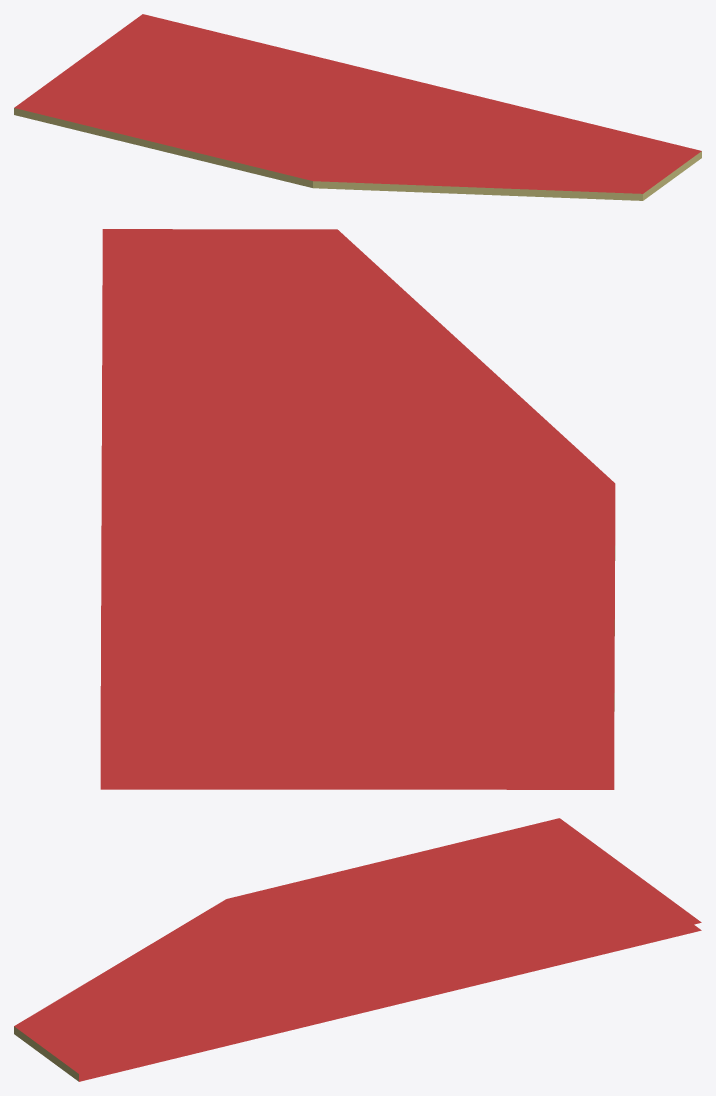
3 views of the same model, one above another, from view 1: azimuth 30°, elevation 25°; view 2: azimuth 150°, elevation 25°; view 3: azimuth 270°, elevation 25° (orthographic). The views are drawn at different scales.
Size of the model in its own units: 6.98 by 7.93 by 0.1.
